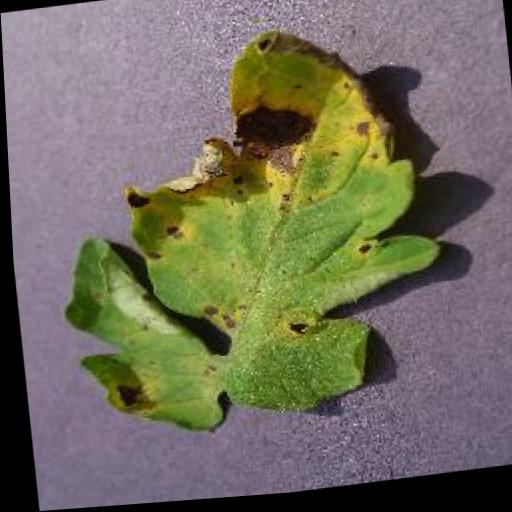Septoria: (36, 18, 454, 456)
